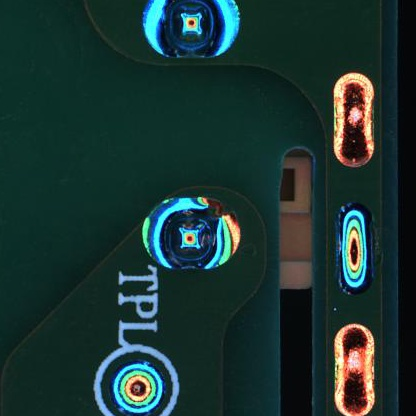spot: (122, 178, 252, 285), (112, 360, 166, 414)
